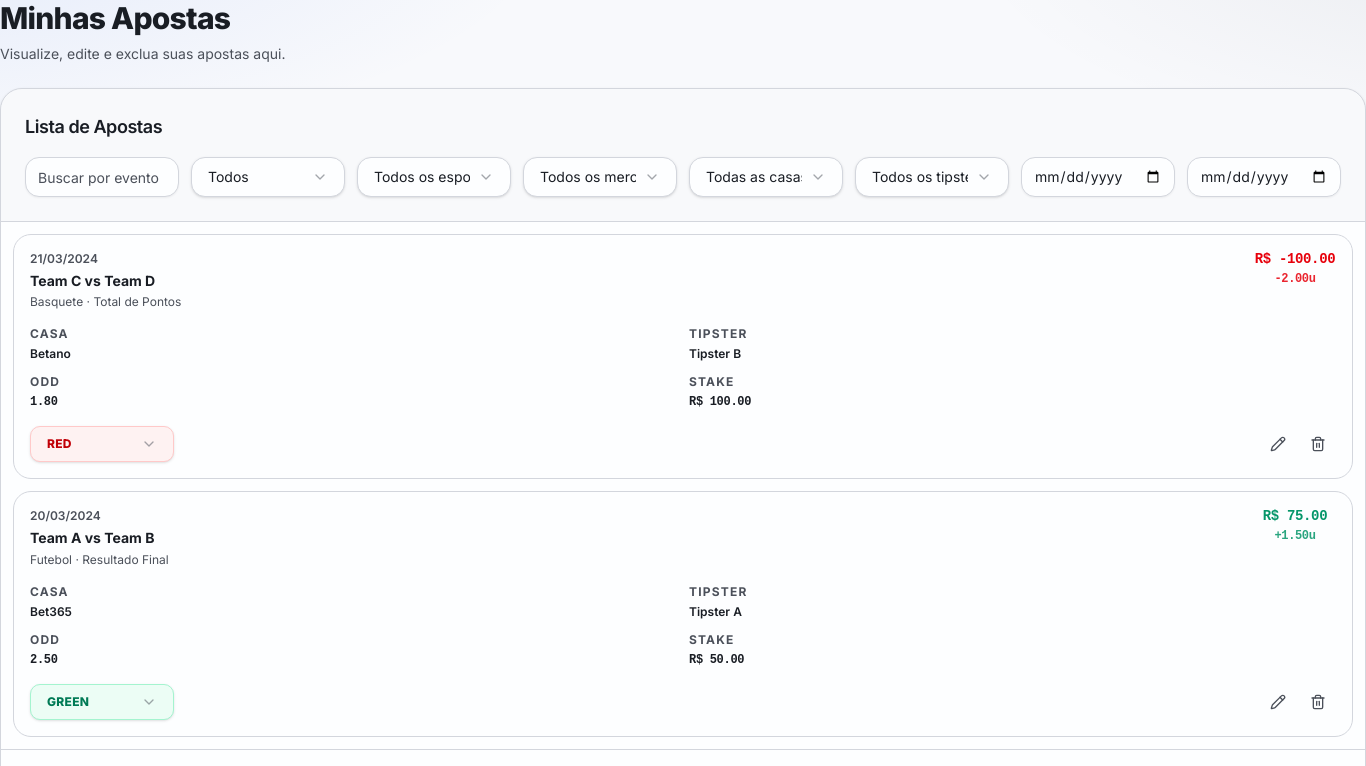
Bets Integration Tests › filters bets by market
The image size is (1366, 766).
Expected: the heading "Team A vs Team B" is shown, 30,528 -> 169,548
Click the dropdown labelled "mercado" at (600, 177), box 523,157 -> 677,197
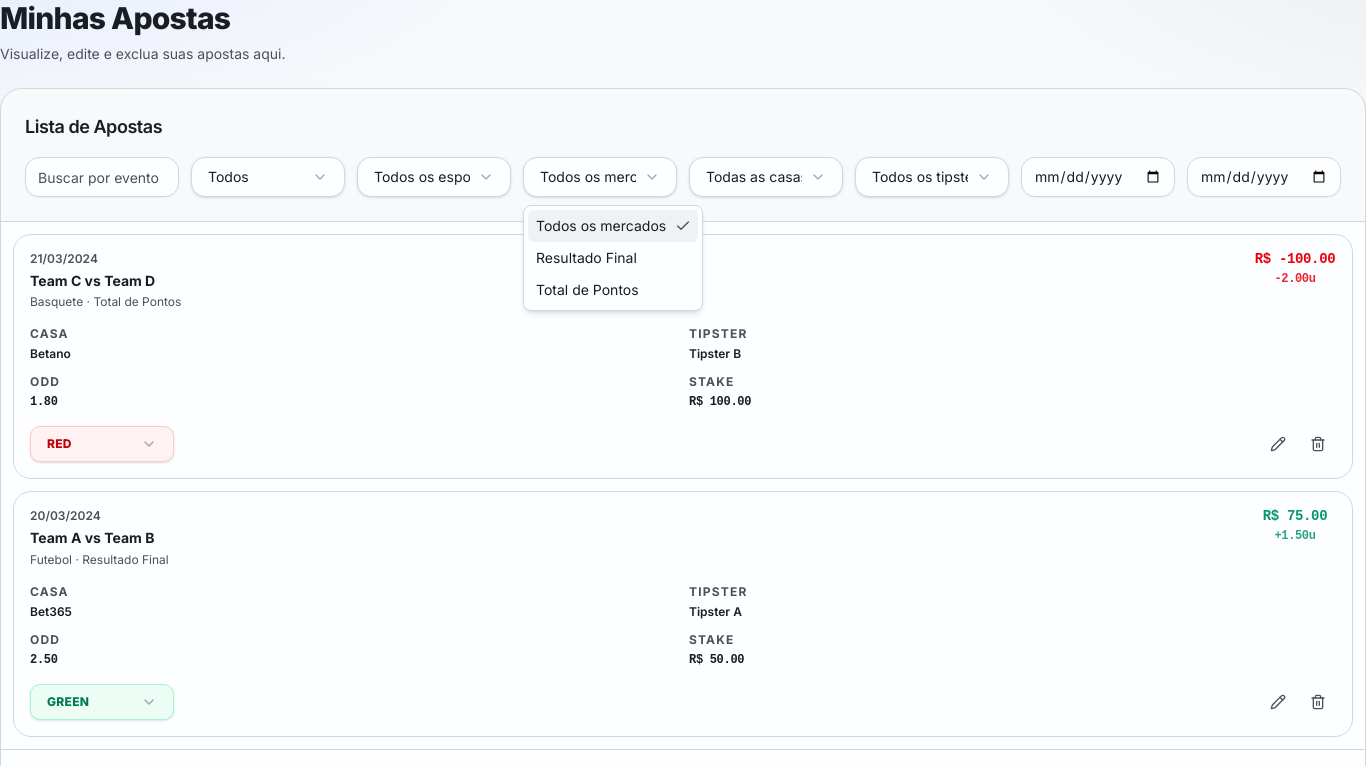
Click the option "Total de Pontos" at (587, 290), box 536,281 -> 639,298
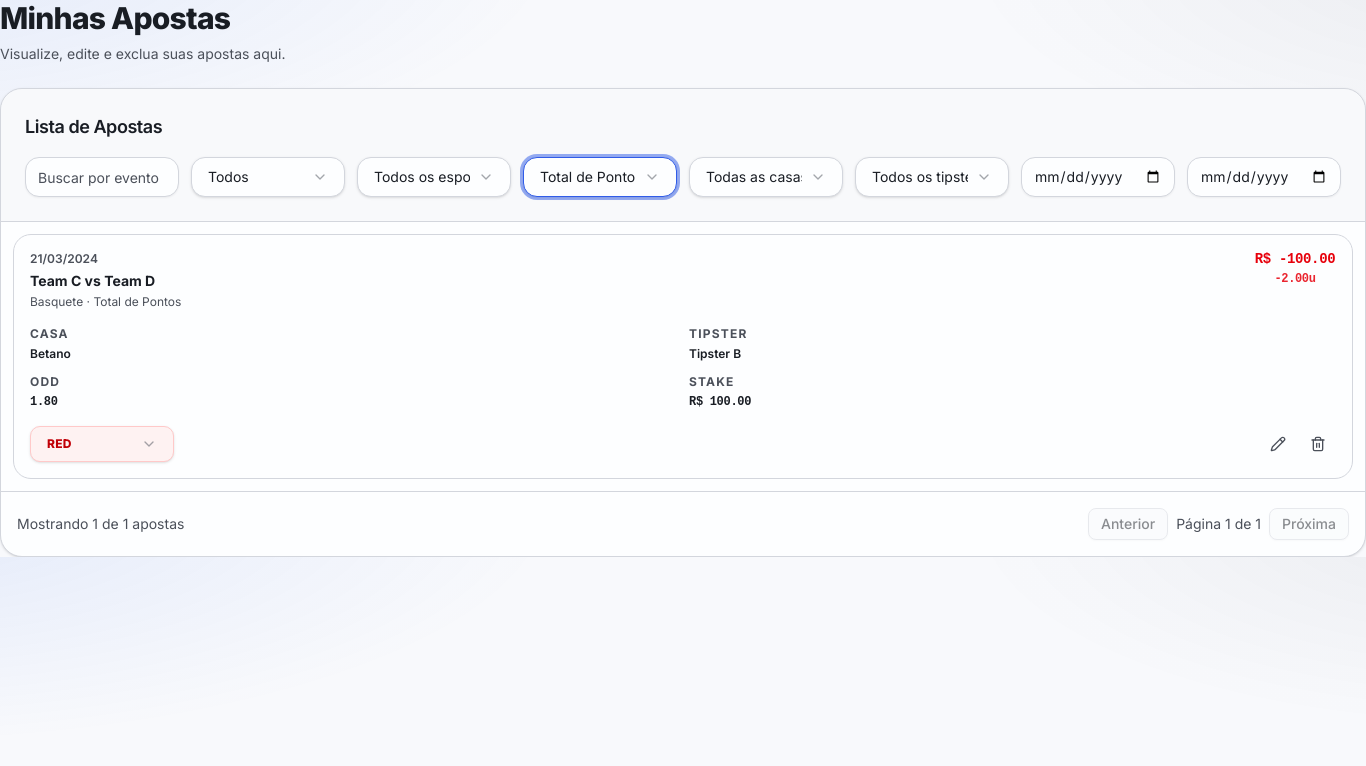
Expected: the heading "Team C vs Team D" is shown, 30,272 -> 155,289
Expected: the heading "Team A vs Team B" is gone
